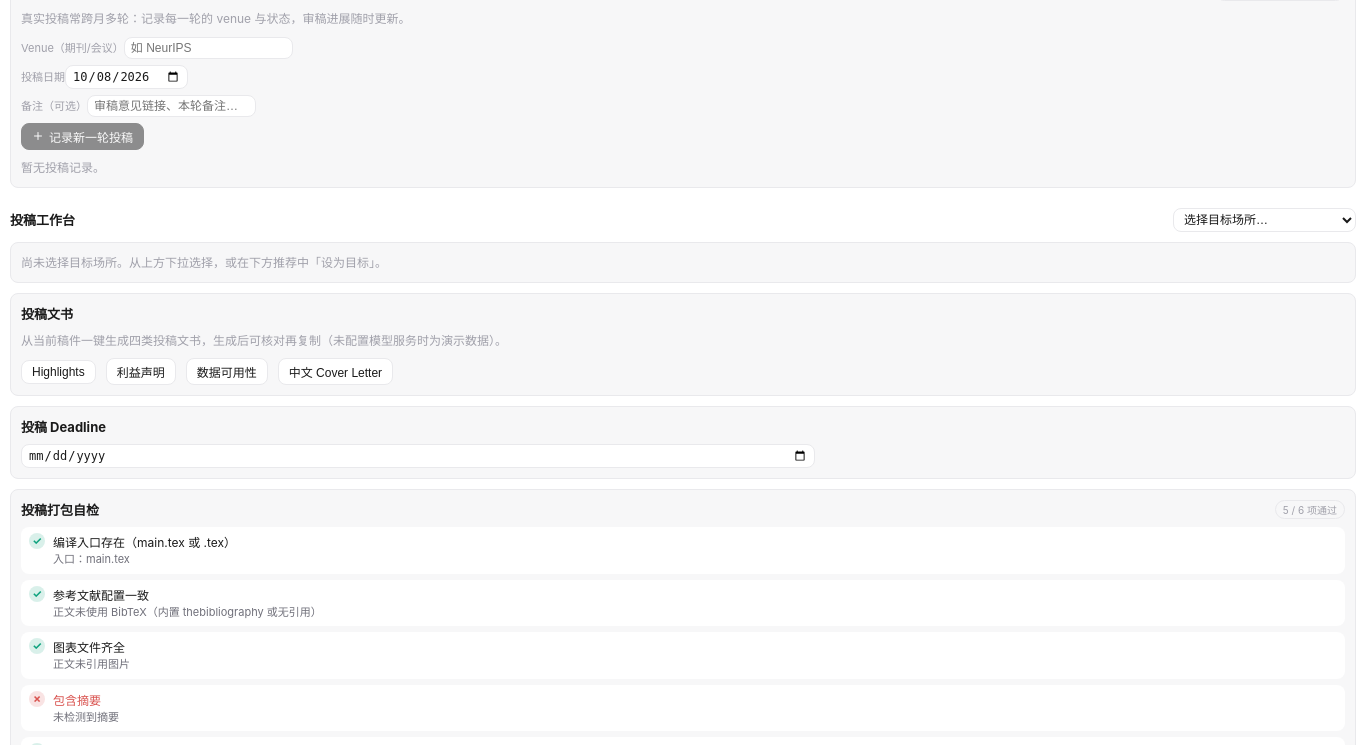
Scenario: SubmitPanel「投稿文书」区 › 超 85 字符的条目字数徽标转黄（warn）
(page scrolled)
Click the button "Highlights". click: coordinates (58, 372)
box: top-left (21, 360), bottom-right (96, 384)
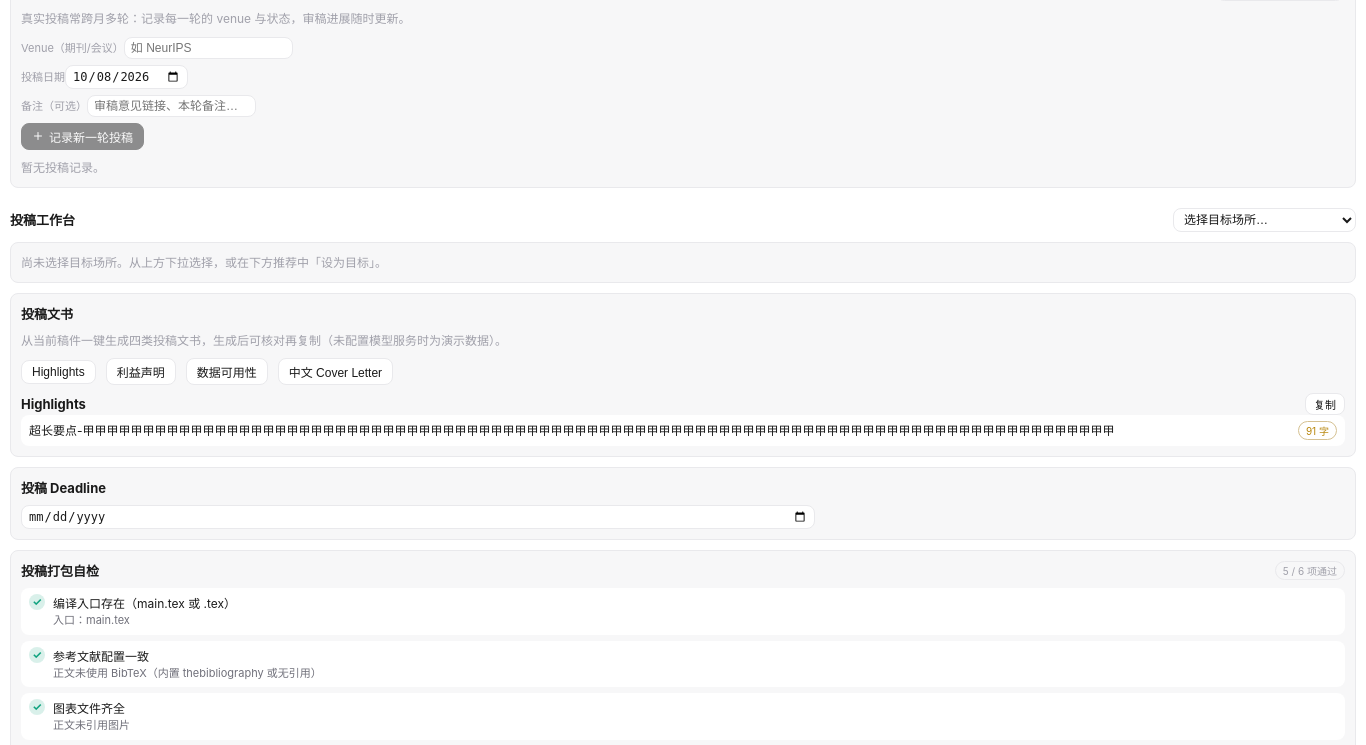
Check: the text with class "warn" reads "91 字", box top-left (1298, 421), bottom-right (1337, 440)
